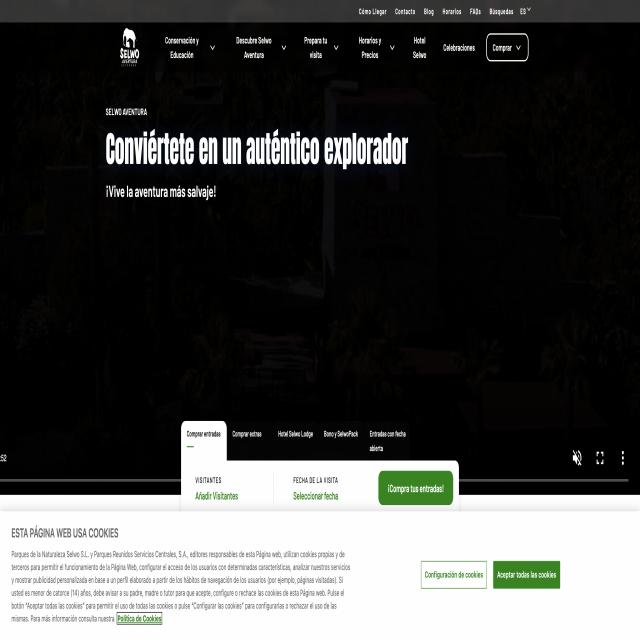Logo: (115, 21, 148, 67)
Navigation: (161, 28, 562, 72)
